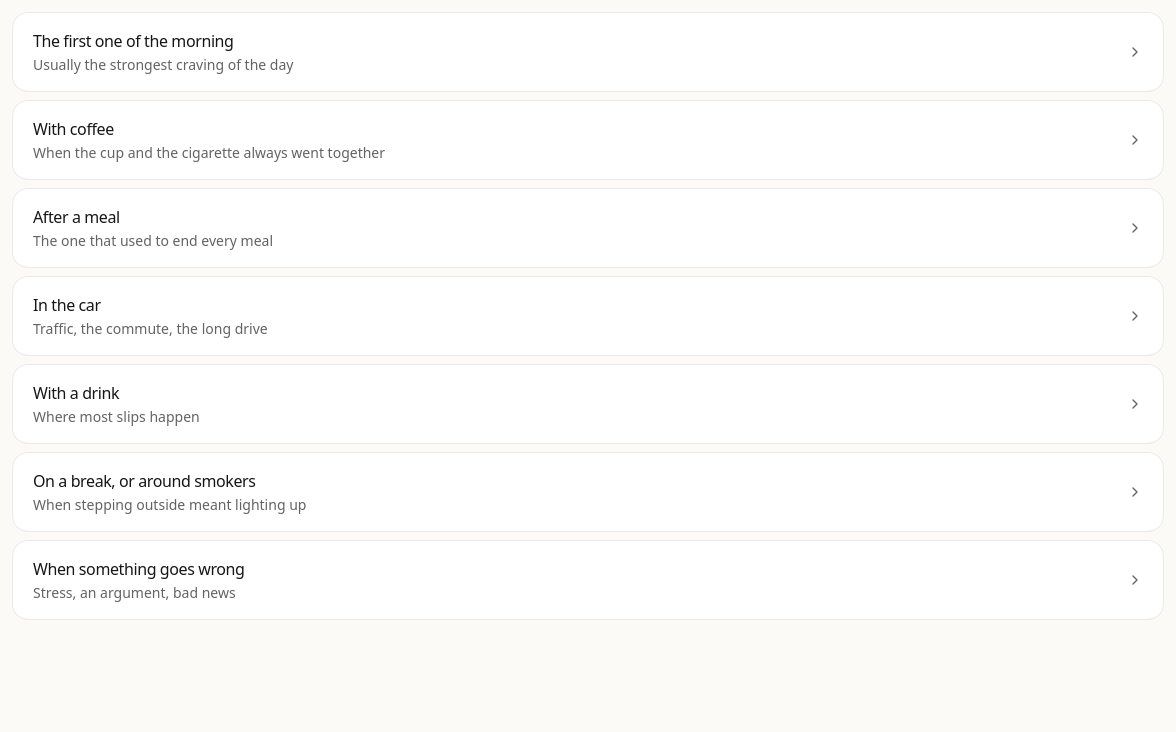
Test: UrgeResistance › shows completion message when all steps are done
Click the text "With coffee" at (73, 129), box [33,118,114,140]
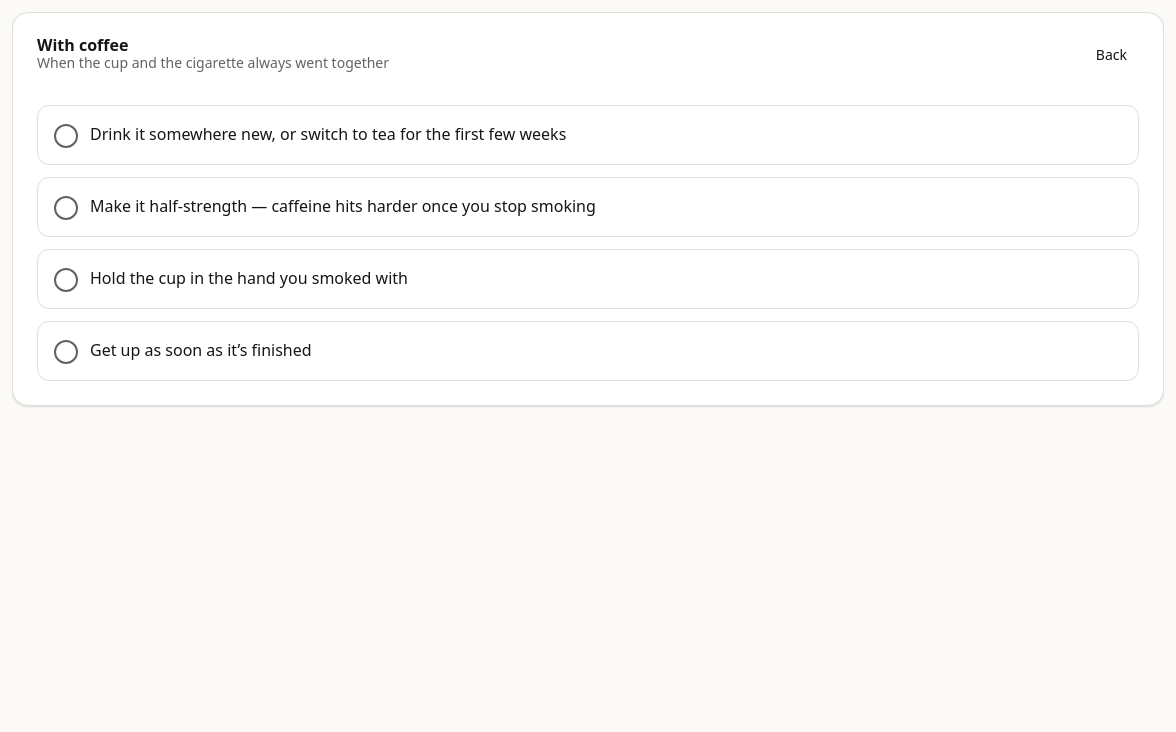
Click the 2nd button at (328, 134), box [37,105,1139,165]
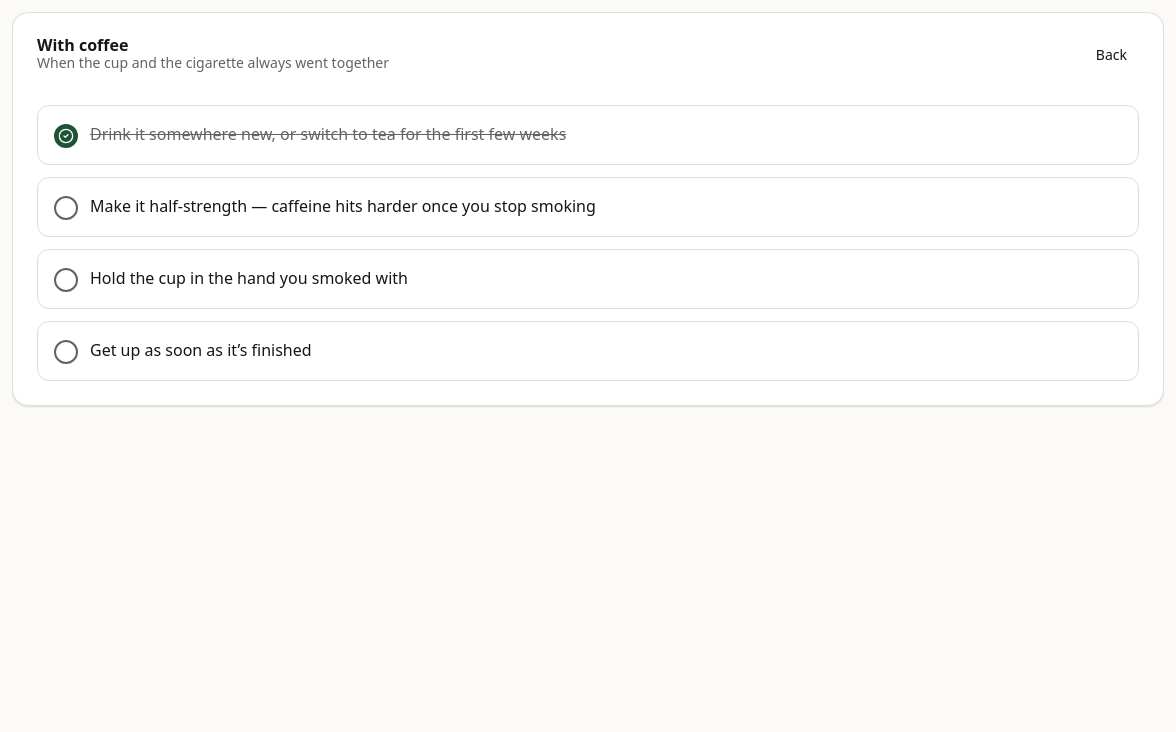
Click the 3rd button at (588, 207), box [37,177,1139,237]
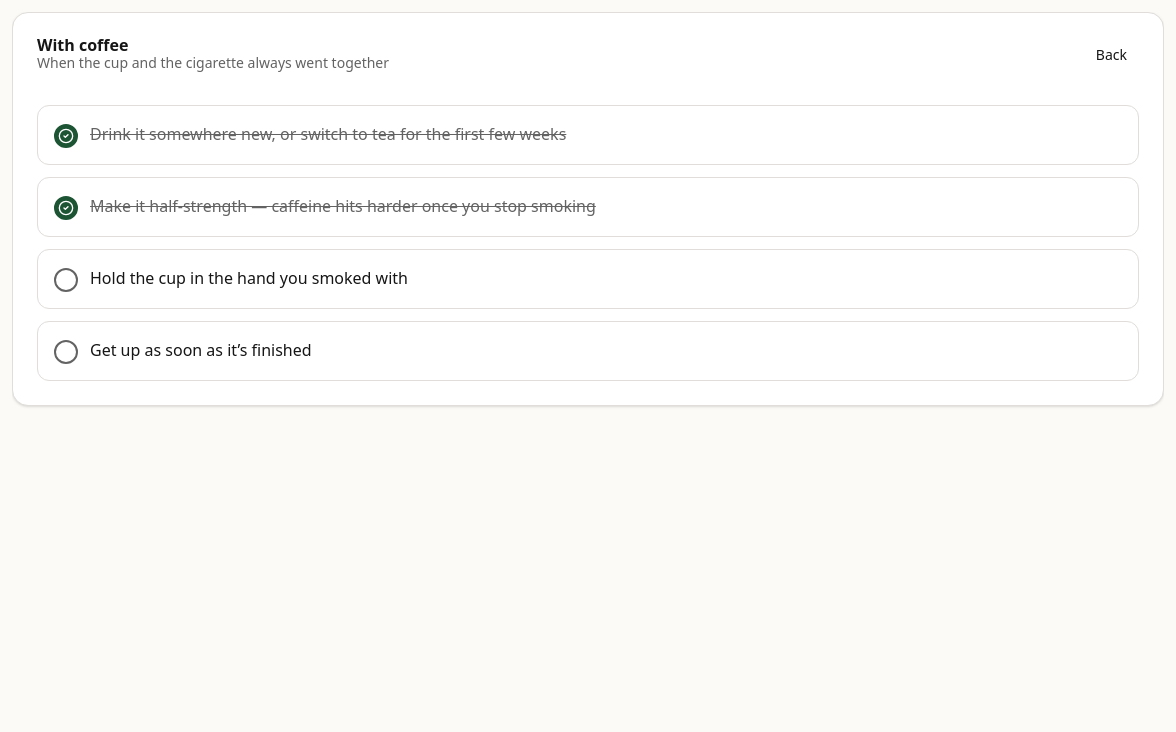
Click the button "Hold the cup in the hand you smoked with" at (249, 278), box [37,249,1139,309]
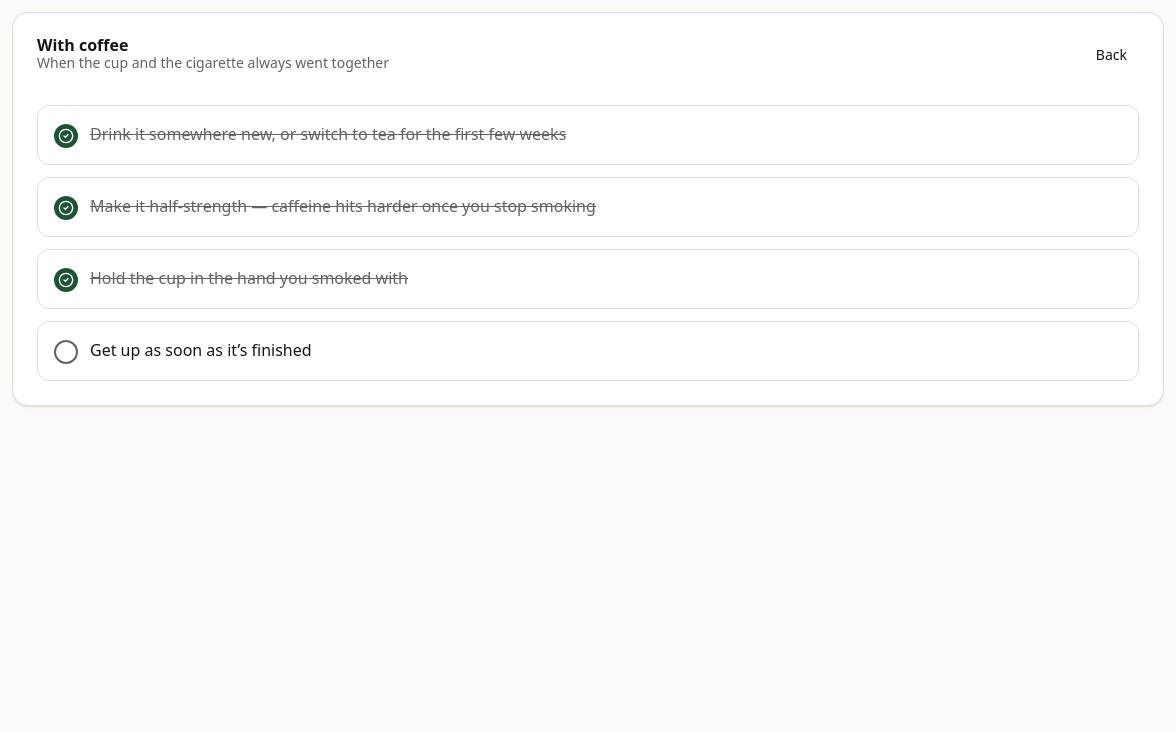
Click the button "Get up as soon as it’s finished" at (201, 350), box [37,321,1139,381]
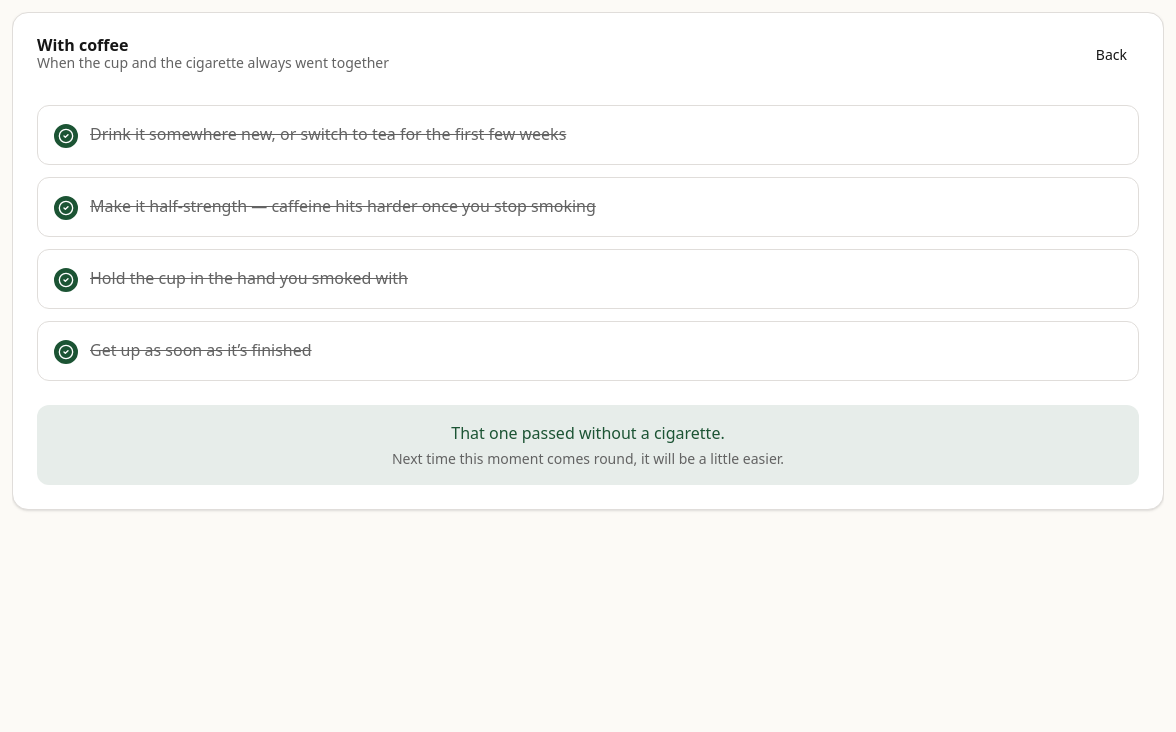
expect the text "That one passed without a cigarette." is shown: met, box [451,422,725,444]
